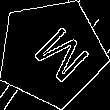M_SW: (18, 18, 86, 87)
